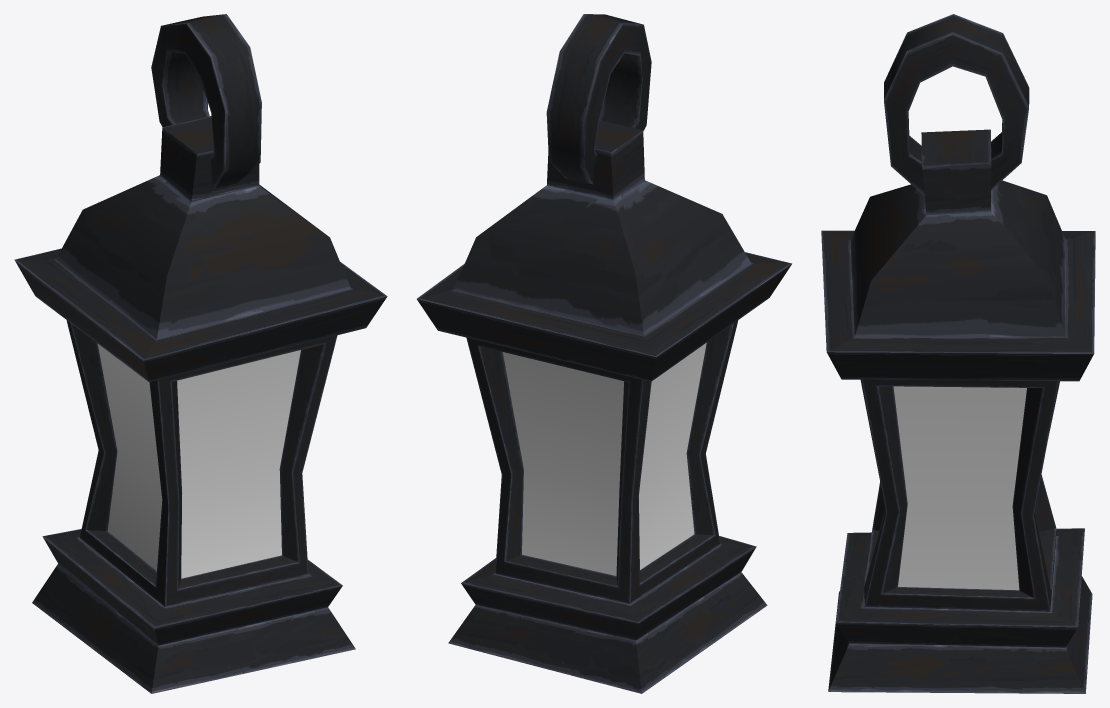
File: SM_PROP_lantern_battle_01.fbx
3 renders of one model, left to right at view 1: azimuth 30°, elevation 25°; view 2: azimuth 150°, elevation 25°; view 3: azimuth 270°, elevation 25°, orthographic. The views are drawn at different scales.
Parts seen in each view (by area): view 1: SM_PROP_lantern_battle_01; view 2: SM_PROP_lantern_battle_01; view 3: SM_PROP_lantern_battle_01.
Boxes of the visible parts, x1=… form: SM_PROP_lantern_battle_01: x1=14, y1=14, x2=387, y2=693; SM_PROP_lantern_battle_01: x1=417, y1=14, x2=791, y2=693; SM_PROP_lantern_battle_01: x1=821, y1=14, x2=1095, y2=693.
Bounding box in the file's own units: 23.76 × 55.7 × 22.2.
